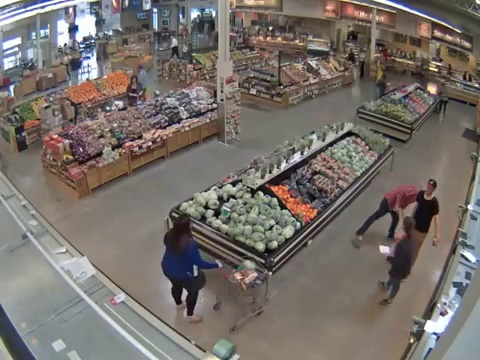face: (424, 184, 434, 196), (130, 75, 137, 83)
